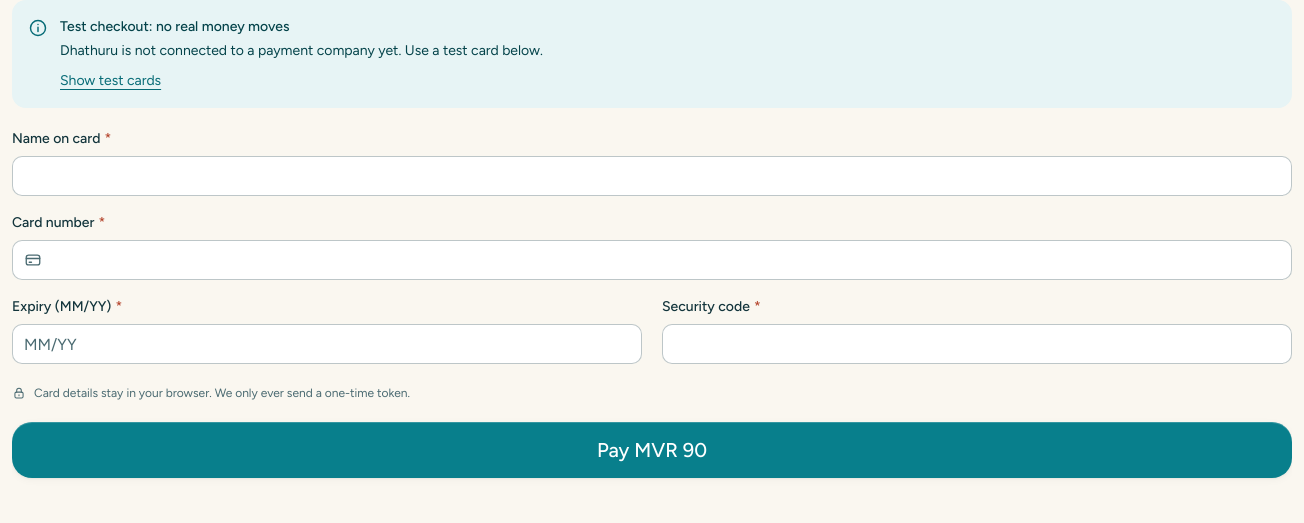
CardForm › says plainly that a non-test card isn't accepted
This screenshot has width=1304, height=523.
Type "A B" into the field labelled "Name on card*".
click(652, 176); type("A B")  # box left=12, top=156, right=1292, bottom=196
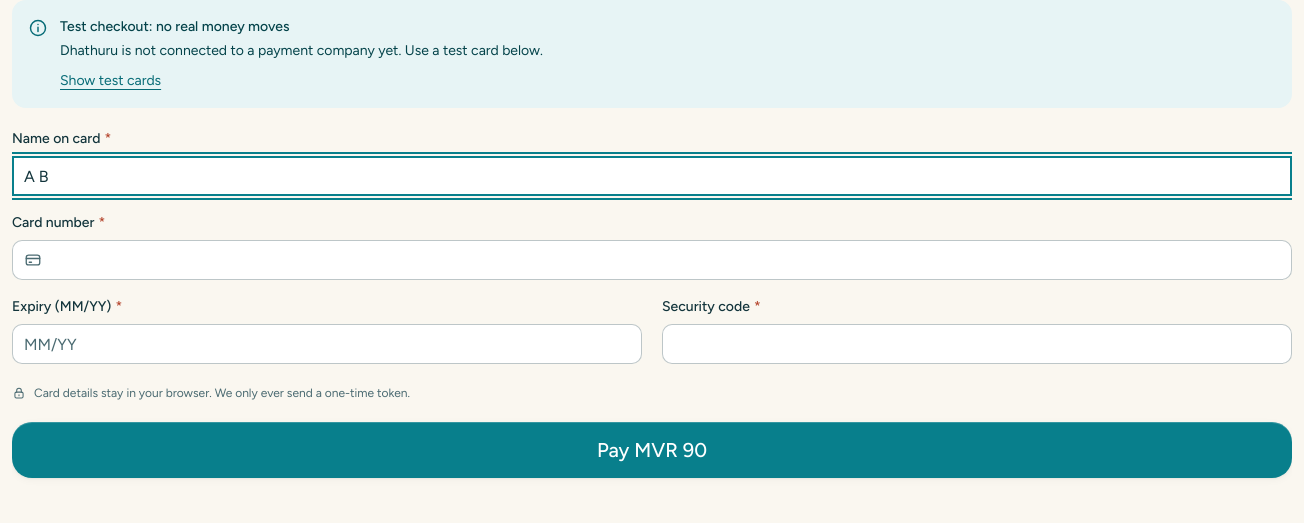
Type "5555555555554444" into the field labelled "Card number*".
click(652, 260); type("5555555555554444")  # box left=12, top=240, right=1292, bottom=280
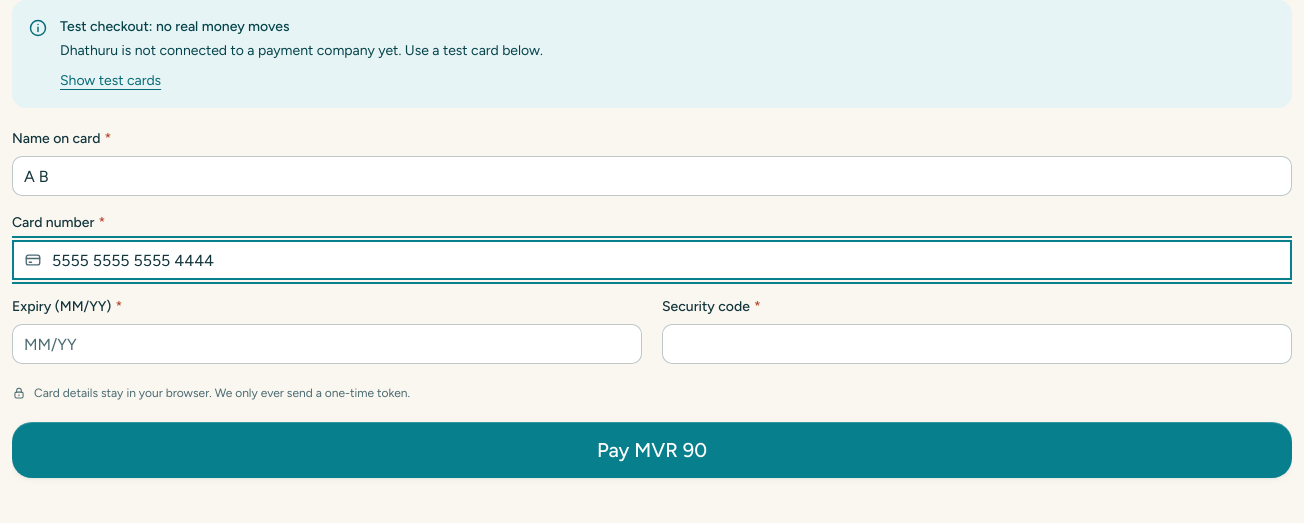
Type "1231" into the field labelled "Expiry (MM/YY)*".
click(327, 344); type("1231")  # box left=12, top=324, right=642, bottom=364
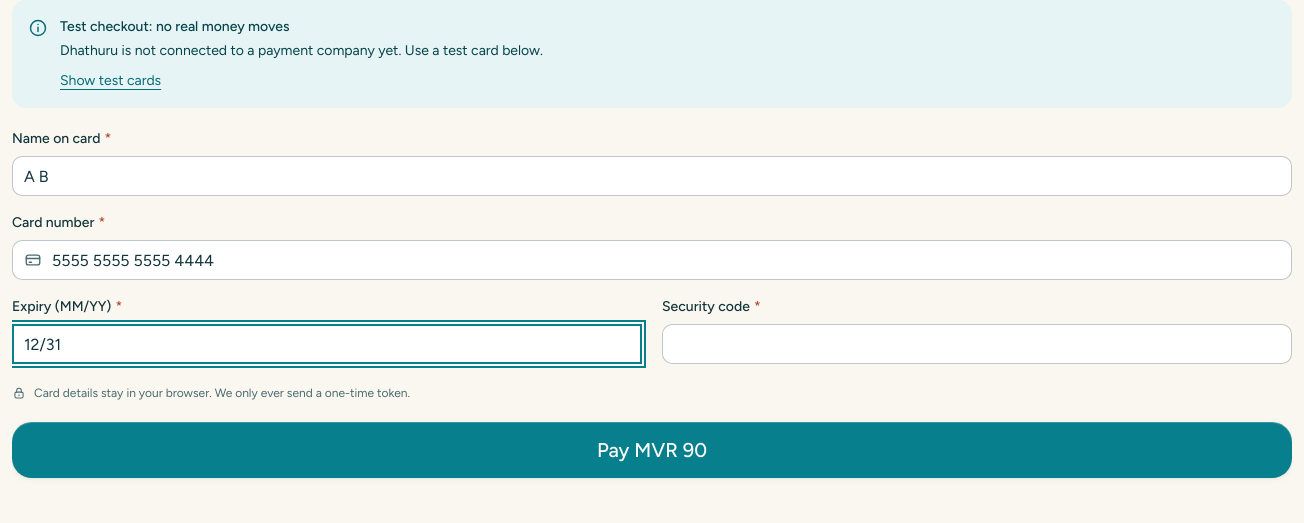
Type "123" into the field labelled "Security code*".
click(977, 344); type("123")  # box left=662, top=324, right=1292, bottom=364
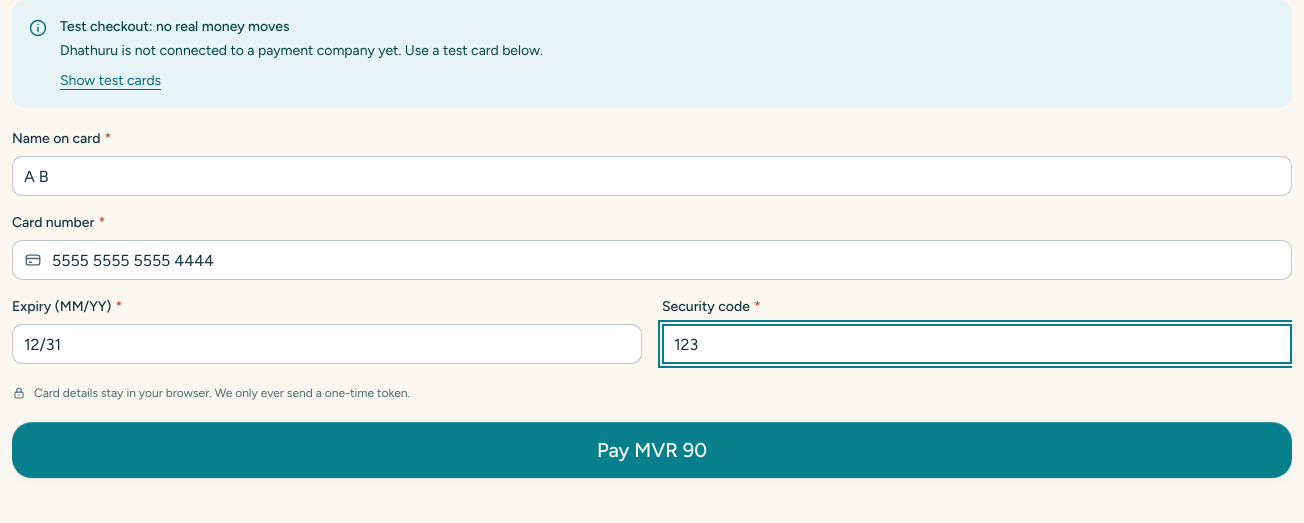
Click the button "Pay MVR 90".
click(652, 450)  # box left=12, top=422, right=1292, bottom=478
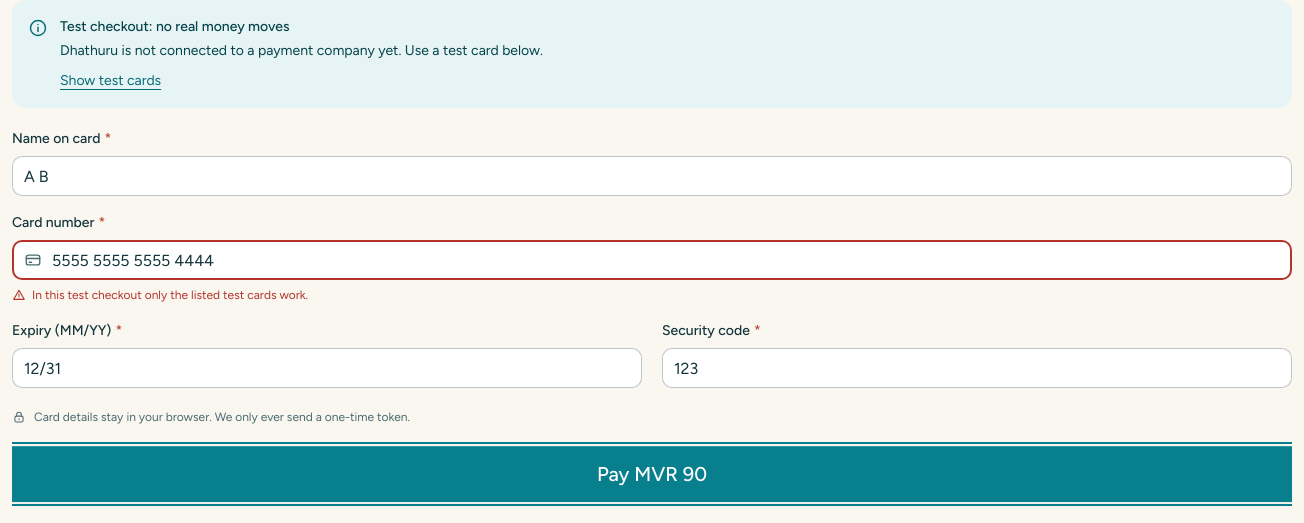
Expected: the text "In this test checkout only the listed test cards work." is shown, left=32, top=286, right=308, bottom=304
